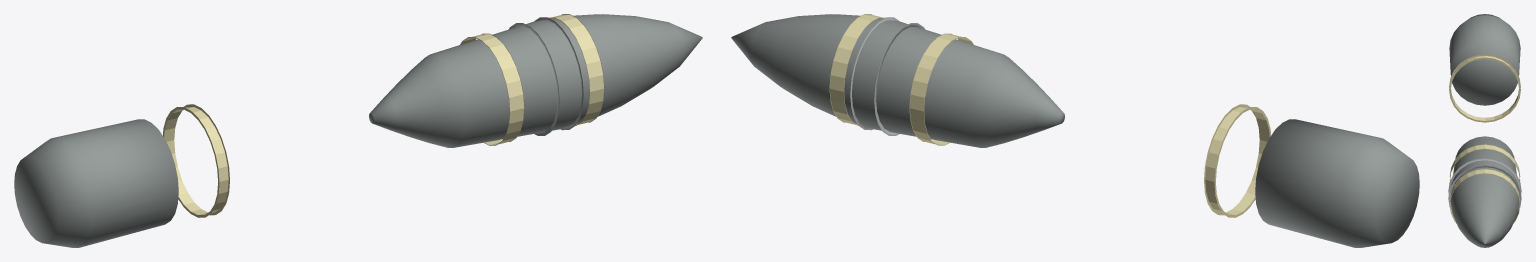
The model's file is FR_SLBM_M1_LOD1.fbx.
3 views of the same model, side by side, from view 1: azimuth 30°, elevation 25°; view 2: azimuth 150°, elevation 25°; view 3: azimuth 270°, elevation 25° (orthographic). The views are drawn at different scales.
Visible parts, largest first — view 1: WPN_FR_SLBM_M1_LOD1_Body, WPN_FR_SLBM_M1_LOD1_Tail, WPN_FR_SLBM_M1_LOD1_Marking, WPN_FR_SLBM_M1_LOD1_Detail; view 2: WPN_FR_SLBM_M1_LOD1_Body, WPN_FR_SLBM_M1_LOD1_Tail, WPN_FR_SLBM_M1_LOD1_Marking, WPN_FR_SLBM_M1_LOD1_Detail; view 3: WPN_FR_SLBM_M1_LOD1_Body, WPN_FR_SLBM_M1_LOD1_Tail, WPN_FR_SLBM_M1_LOD1_Marking, WPN_FR_SLBM_M1_LOD1_Detail.
Part boxes in pixels (left/top/right/bottom): WPN_FR_SLBM_M1_LOD1_Body: left=369, top=14, right=702, bottom=147; WPN_FR_SLBM_M1_LOD1_Tail: left=14, top=119, right=178, bottom=247; WPN_FR_SLBM_M1_LOD1_Marking: left=163, top=14, right=604, bottom=217; WPN_FR_SLBM_M1_LOD1_Detail: left=508, top=17, right=583, bottom=135; WPN_FR_SLBM_M1_LOD1_Body: left=731, top=14, right=1064, bottom=147; WPN_FR_SLBM_M1_LOD1_Tail: left=1255, top=119, right=1419, bottom=247; WPN_FR_SLBM_M1_LOD1_Marking: left=829, top=14, right=1270, bottom=217; WPN_FR_SLBM_M1_LOD1_Detail: left=850, top=17, right=925, bottom=135; WPN_FR_SLBM_M1_LOD1_Body: left=1450, top=136, right=1519, bottom=247; WPN_FR_SLBM_M1_LOD1_Tail: left=1449, top=14, right=1520, bottom=105; WPN_FR_SLBM_M1_LOD1_Marking: left=1449, top=54, right=1520, bottom=223; WPN_FR_SLBM_M1_LOD1_Detail: left=1448, top=158, right=1521, bottom=209.
Size of the model in its own units: 10.4 by 1.58 by 1.58.
